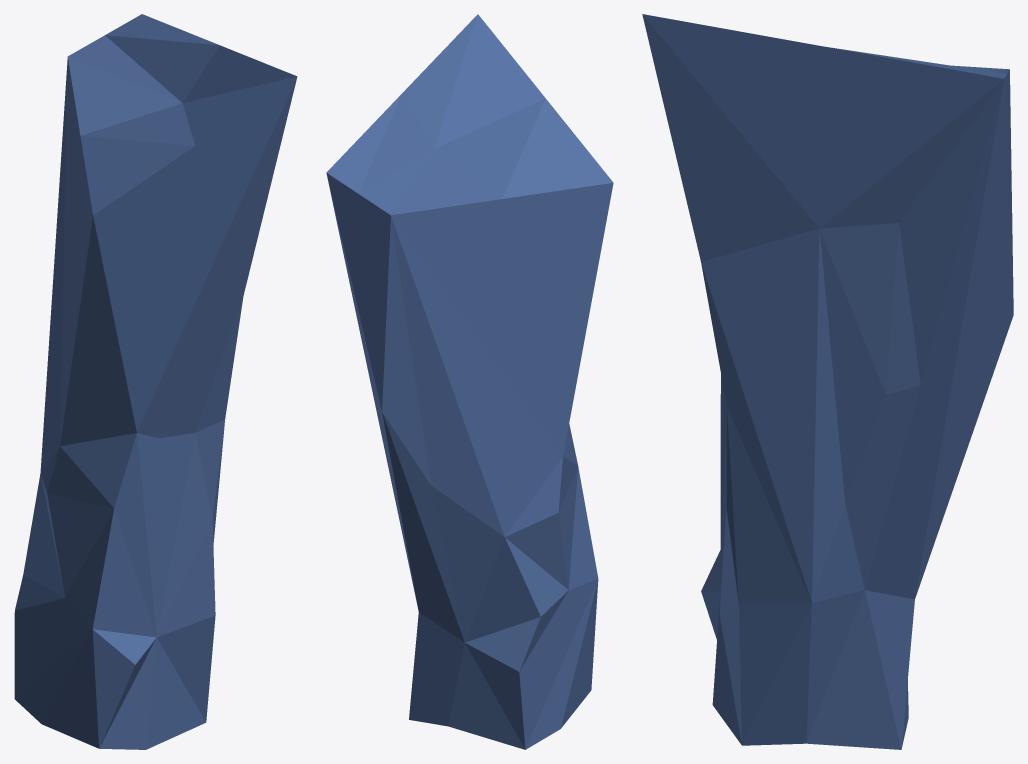
The model's file is rock5.gltf.
The picture shows the model from 3 angles, left to right: view 1: azimuth 30°, elevation 25°; view 2: azimuth 150°, elevation 25°; view 3: azimuth 270°, elevation 25°; orthographic projection. The views are drawn at different scales.
Visible parts, largest first — view 1: SP_Rock07_Mat; view 2: SP_Rock07_Mat; view 3: SP_Rock07_Mat.
Part boxes in pixels (x1=…): SP_Rock07_Mat: x1=14, y1=14, x2=297, y2=749; SP_Rock07_Mat: x1=326, y1=14, x2=613, y2=749; SP_Rock07_Mat: x1=642, y1=14, x2=1013, y2=749.
Bounding box in the file's own units: 29 × 103 × 45.82.
